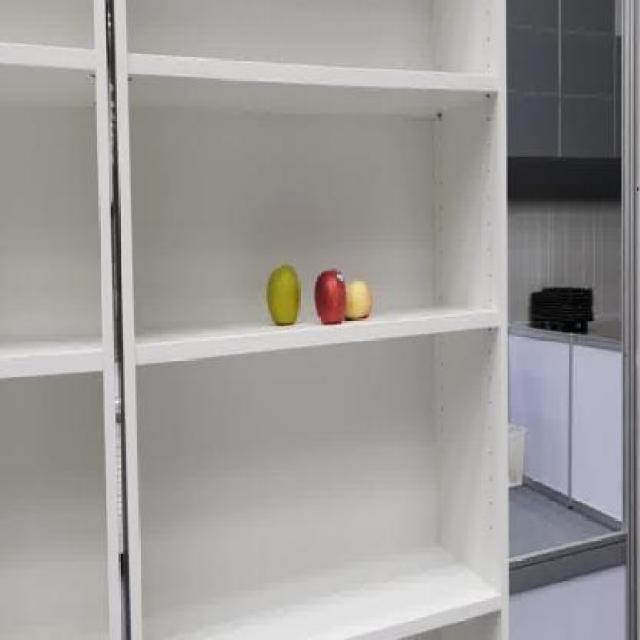Fresh Apple: (264, 262, 306, 333), (310, 274, 356, 336), (348, 274, 376, 333)
